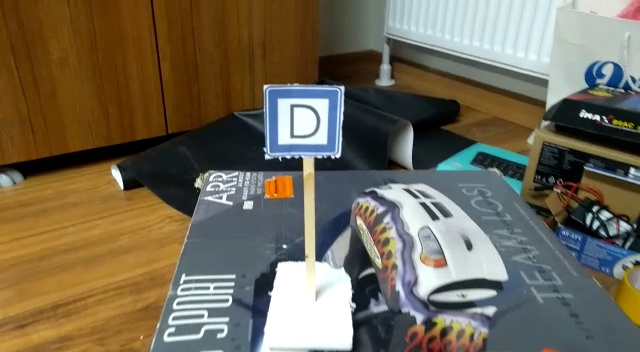durak: (266, 83, 342, 158)
